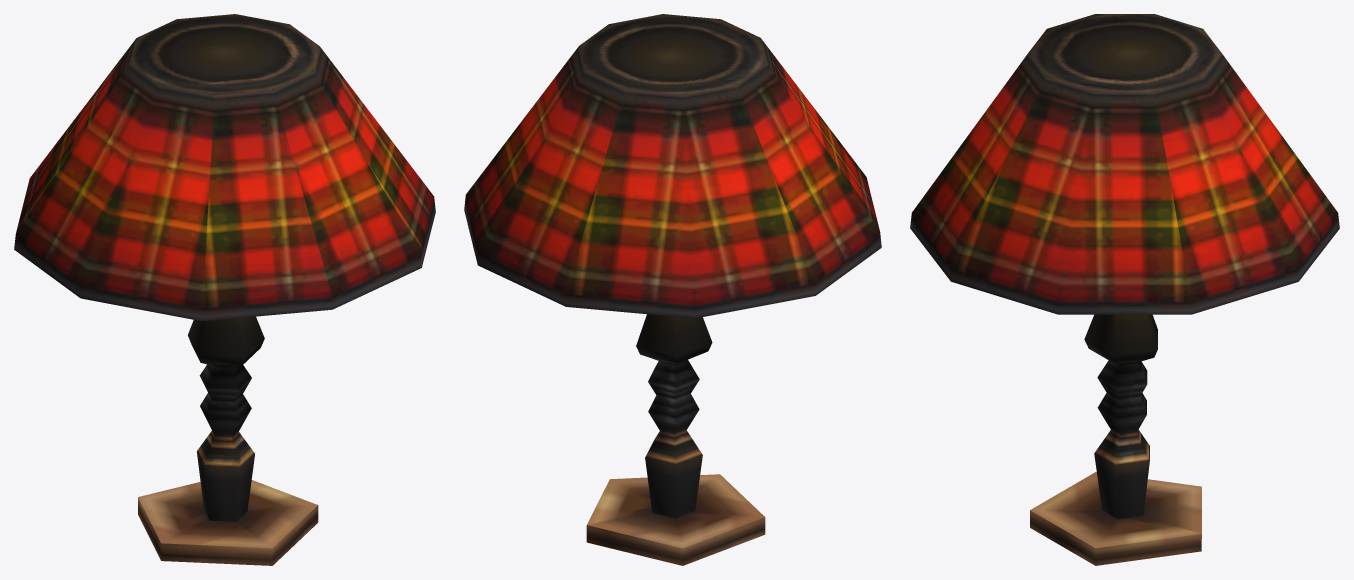
The model's file is furni_0200300.FBX.
3 views of the same model, side by side, from view 1: azimuth 30°, elevation 25°; view 2: azimuth 150°, elevation 25°; view 3: azimuth 270°, elevation 25° (orthographic).
Parts seen in each view (by area): view 1: furni_0200300; view 2: furni_0200300; view 3: furni_0200300.
Boxes of the visible parts, left/top/right/bottom form: furni_0200300: left=14, top=14, right=435, bottom=565; furni_0200300: left=464, top=14, right=881, bottom=565; furni_0200300: left=910, top=14, right=1339, bottom=565.
Size of the model in its own units: 55.44 by 71.05 by 58.27.
Materials: 1 (1 with a texture image).
